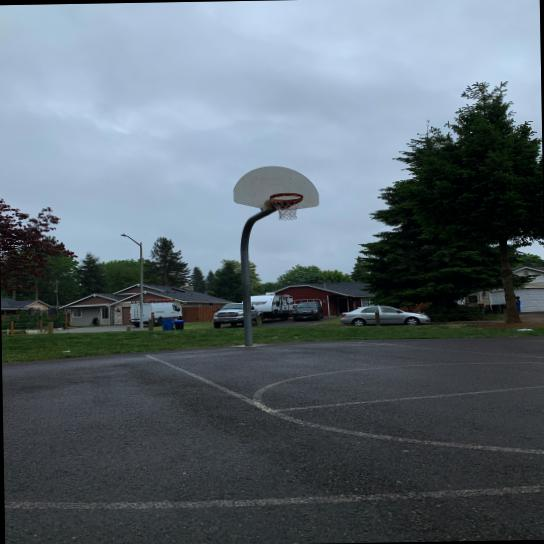basketball-hoop: (268, 191, 305, 220)
